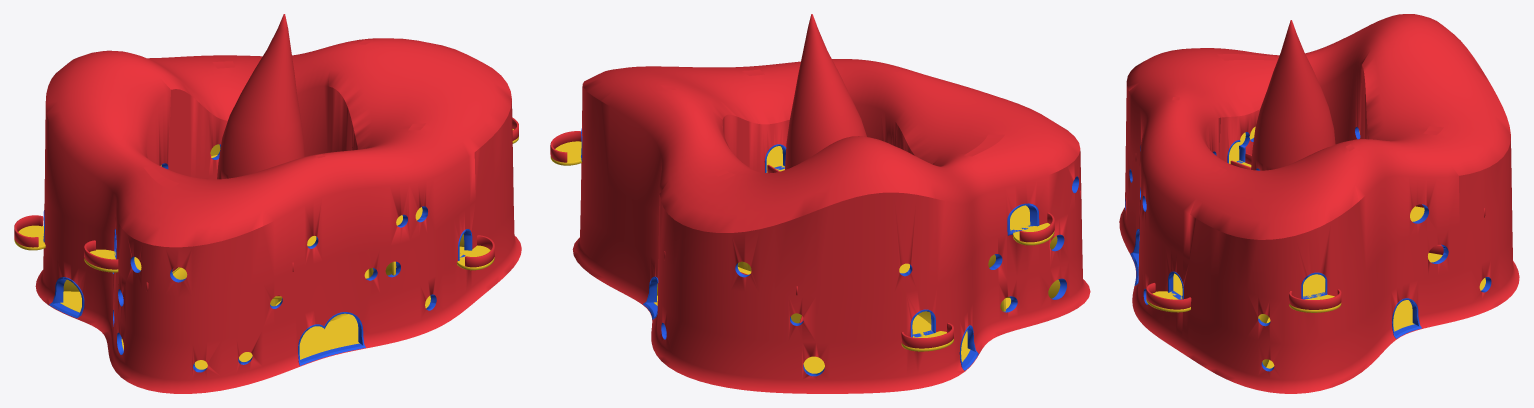
Rendered from adobe_castle.glb.
The picture shows the model from 3 angles, left to right: view 1: azimuth 30°, elevation 25°; view 2: azimuth 150°, elevation 25°; view 3: azimuth 270°, elevation 25°; orthographic projection. The views are drawn at different scales.
Parts seen in each view (by area): view 1: 09 • Continuous blob castle shell, 09 • Curving central spire, 09 • Continuous ground-level floor finish, 09 • Balcony adobe parapet.001, 09 • Balcony adobe parapet, 09 • Balcony adobe parapet.003; view 2: 09 • Continuous blob castle shell, 09 • Curving central spire, 09 • Level 3 continuous loop floor, 09 • Balcony adobe parapet.001, 09 • Continuous ground-level floor finish, 09 • Balcony adobe parapet.002, 09 • Rounded L3 exterior balcony, 09 • Balcony adobe parapet.003; view 3: 09 • Continuous blob castle shell, 09 • Curving central spire, 09 • Level 3 continuous loop floor, 09 • Continuous ground-level floor finish, 09 • Balcony adobe parapet.002, 09 • Balcony adobe parapet.
Boxes of the visible parts, left/top/right/bottom form: 09 • Continuous blob castle shell: left=35, top=38, right=521, bottom=393; 09 • Curving central spire: left=217, top=14, right=304, bottom=179; 09 • Continuous ground-level floor finish: left=60, top=291, right=430, bottom=369; 09 • Balcony adobe parapet.001: left=14, top=215, right=43, bottom=247; 09 • Balcony adobe parapet: left=465, top=235, right=494, bottom=267; 09 • Balcony adobe parapet.003: left=84, top=240, right=118, bottom=269; 09 • Continuous blob castle shell: left=572, top=59, right=1090, bottom=393; 09 • Curving central spire: left=785, top=14, right=866, bottom=169; 09 • Level 3 continuous loop floor: left=766, top=146, right=1030, bottom=273; 09 • Balcony adobe parapet.001: left=901, top=323, right=953, bottom=348; 09 • Continuous ground-level floor finish: left=654, top=295, right=1010, bottom=373; 09 • Balcony adobe parapet.002: left=550, top=131, right=581, bottom=162; 09 • Rounded L3 exterior balcony: left=550, top=141, right=581, bottom=165; 09 • Balcony adobe parapet.003: left=1019, top=212, right=1054, bottom=242; 09 • Continuous blob castle shell: left=1119, top=14, right=1519, bottom=393; 09 • Curving central spire: left=1251, top=20, right=1335, bottom=170; 09 • Level 3 continuous loop floor: left=1229, top=126, right=1424, bottom=295; 09 • Continuous ground-level floor finish: left=1266, top=278, right=1485, bottom=368; 09 • Balcony adobe parapet.002: left=1289, top=289, right=1341, bottom=309; 09 • Balcony adobe parapet: left=1146, top=283, right=1191, bottom=309.
Bounding box in the file's own units: 44.05 × 25.34 × 34.48.
